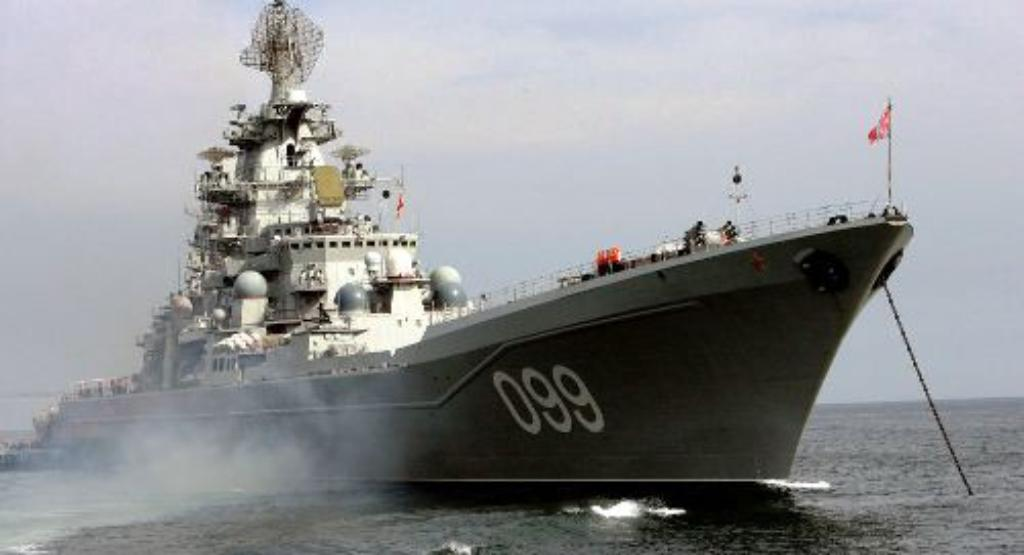Warship: (44, 1, 918, 483)
